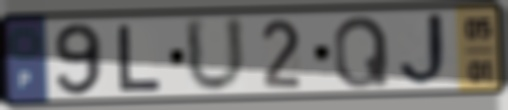2: (260, 17, 303, 91)
9: (52, 21, 106, 98)
J: (396, 10, 455, 90)
L: (115, 23, 164, 94)
Q: (332, 13, 392, 91)
U: (181, 14, 250, 97)
